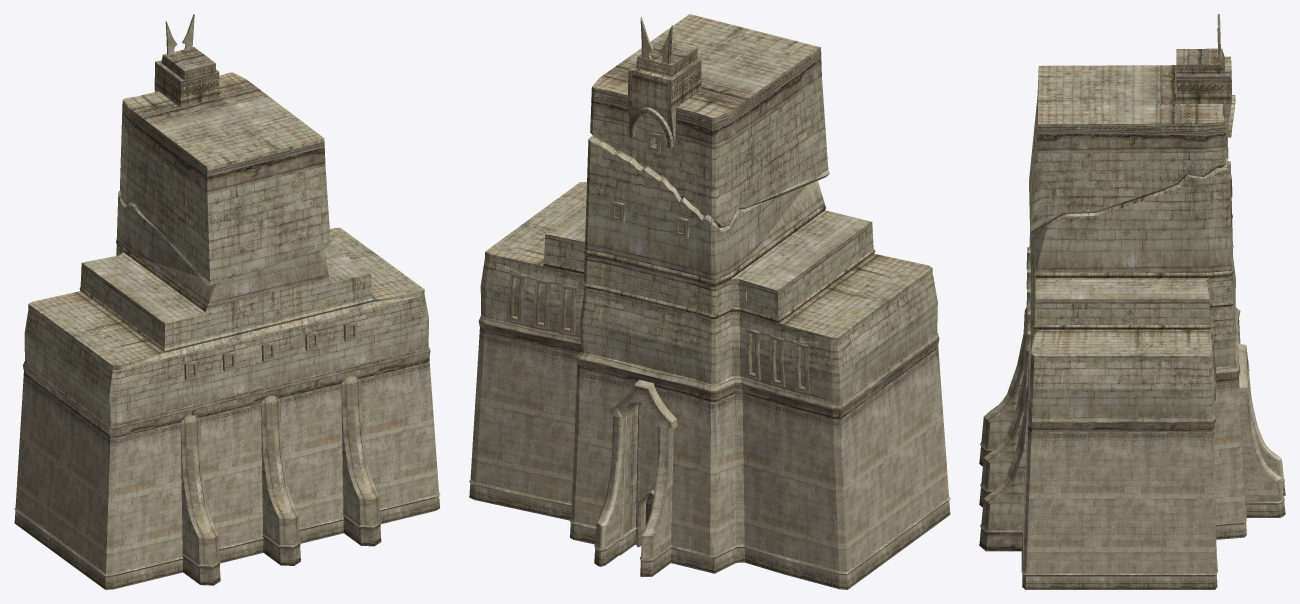
The model's file is TW2_5_TEMPLE_01_3-transformed.glb.
3 renders of one model, left to right at view 1: azimuth 30°, elevation 25°; view 2: azimuth 150°, elevation 25°; view 3: azimuth 270°, elevation 25°, orthographic. The views are drawn at different scales.
Parts seen in each view (by area): view 1: default; view 2: default; view 3: default.
Boxes of the visible parts, x1=… form: default: x1=14, y1=14, x2=440, y2=589; default: x1=469, y1=14, x2=950, y2=589; default: x1=979, y1=14, x2=1285, y2=589.
Size of the model in its own units: 43.47 by 57.6 by 32.97.
3 materials, 3 textured.
